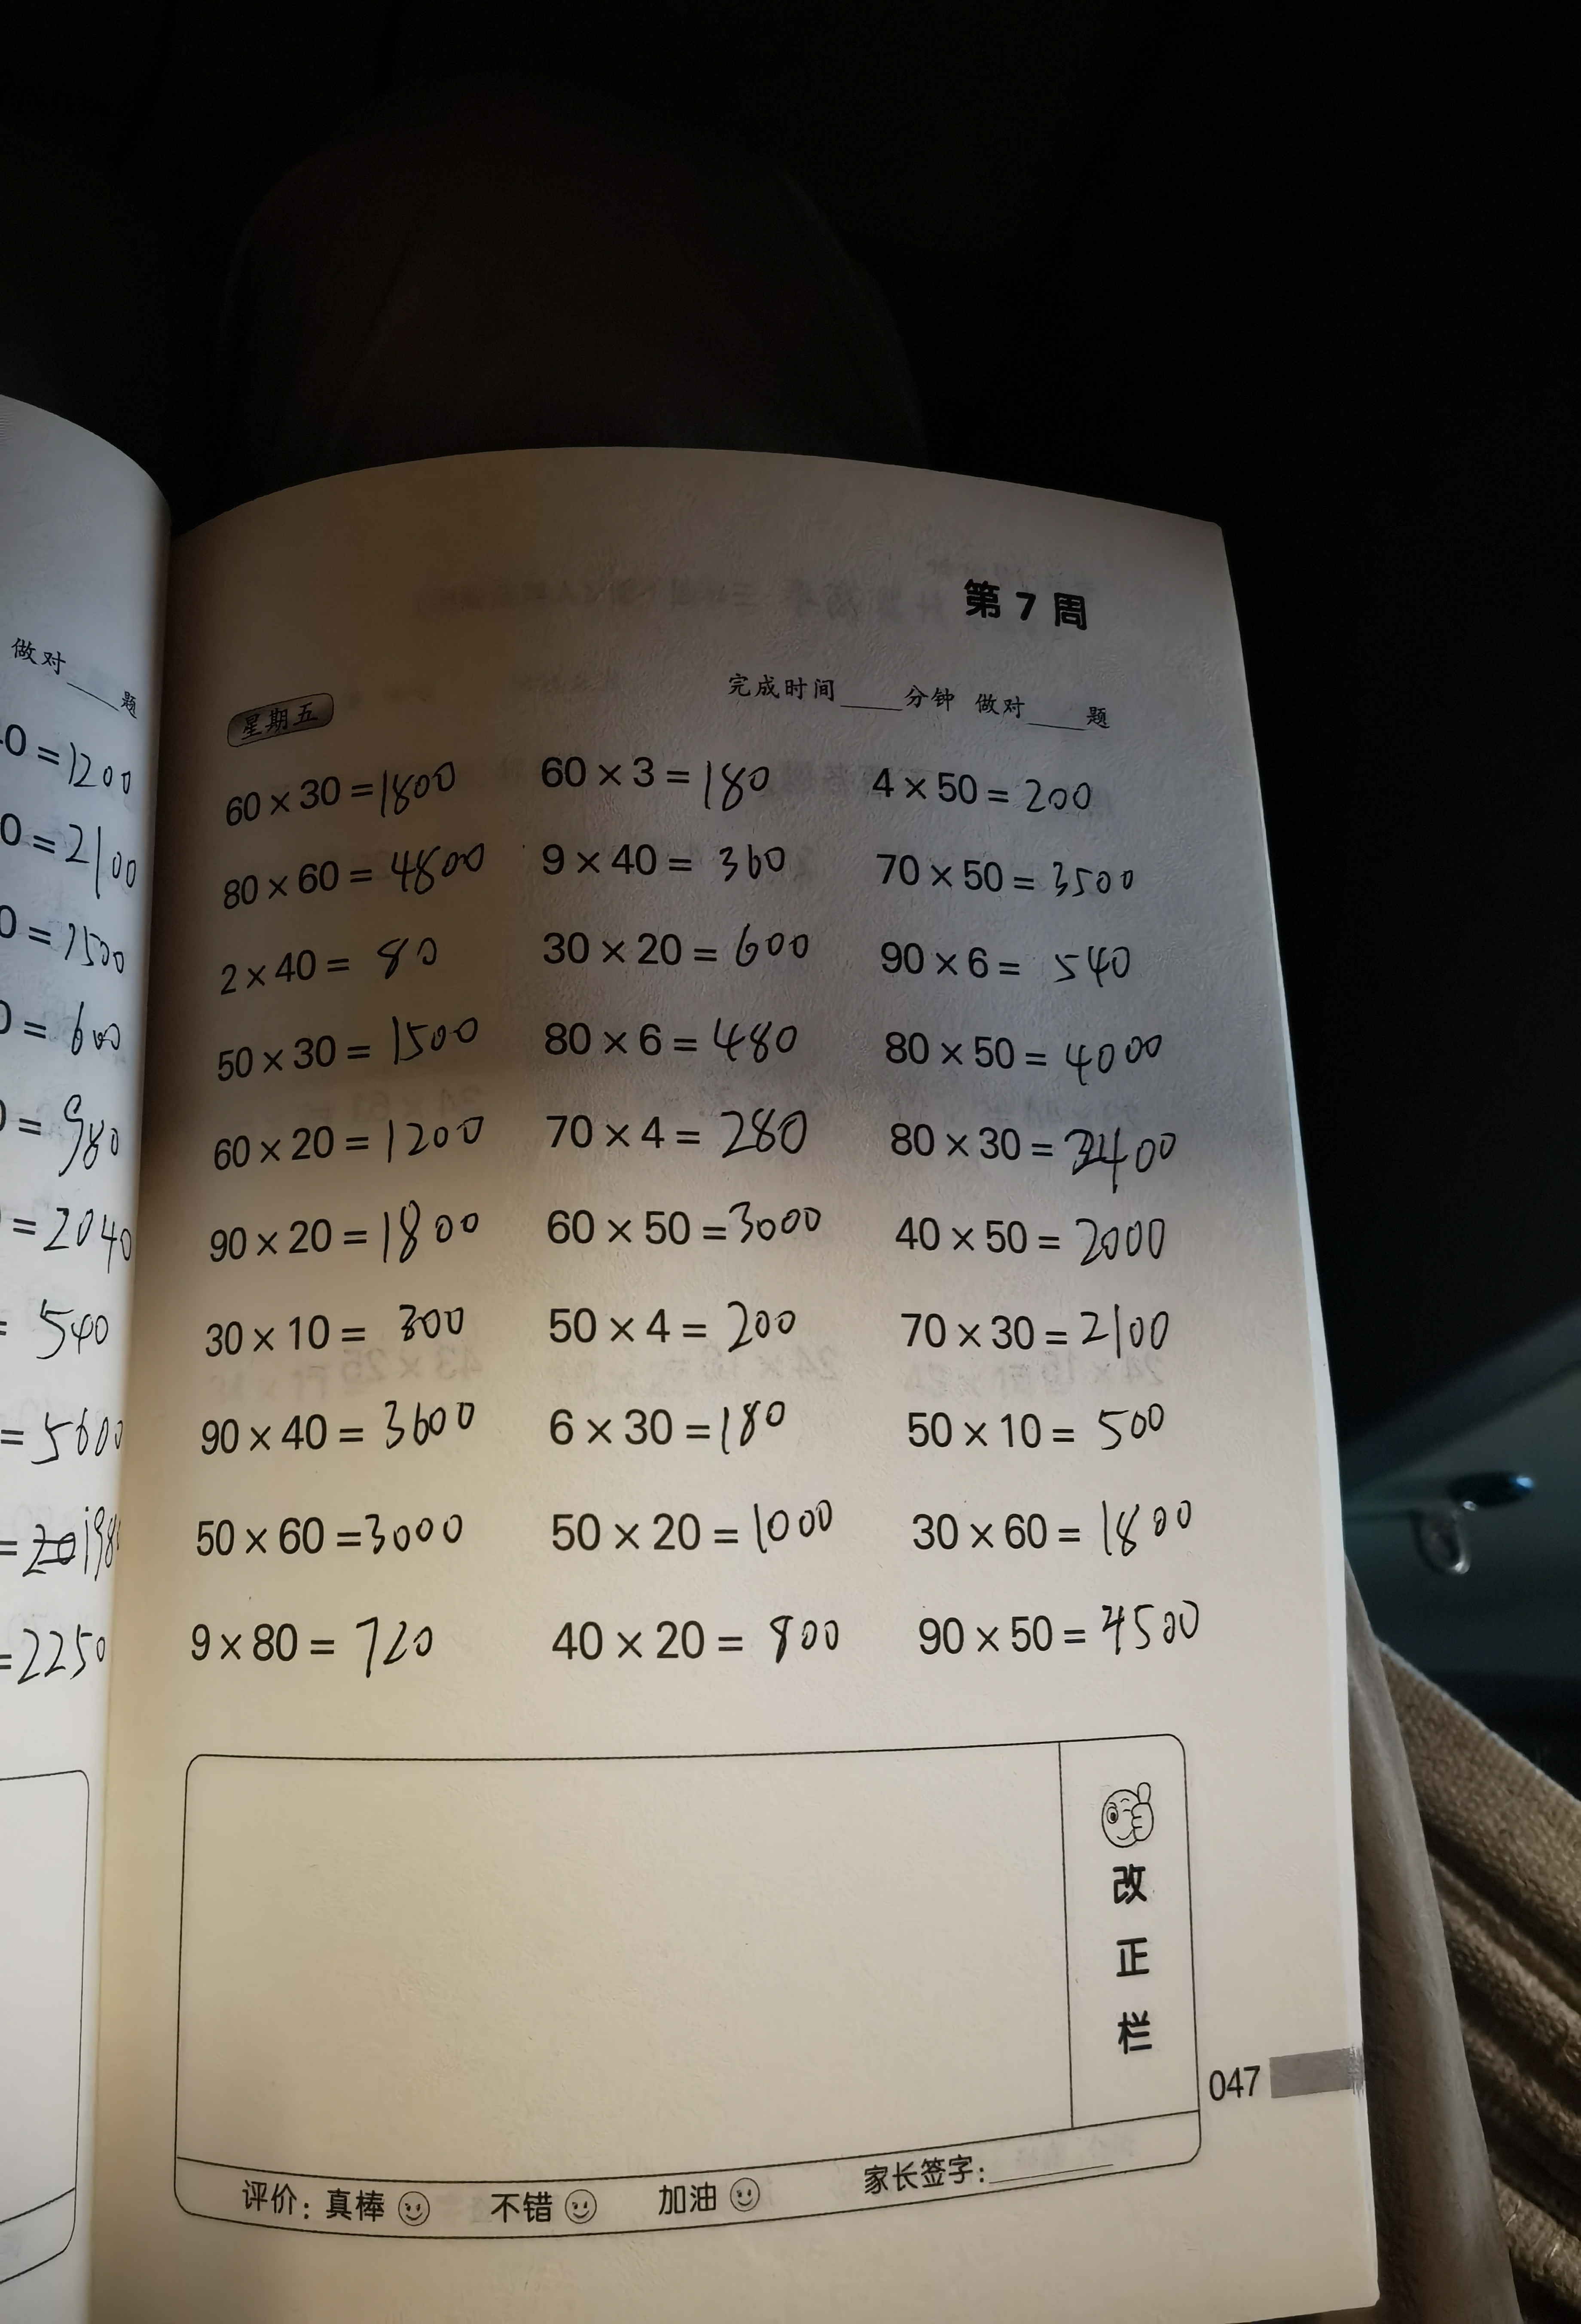equation: (886, 1481, 1251, 1572), (879, 1202, 1233, 1292), (896, 1285, 1207, 1382), (162, 1602, 489, 1692), (510, 1482, 850, 1565), (870, 1108, 1212, 1189), (893, 1593, 1225, 1671), (868, 752, 1133, 842), (531, 729, 780, 822), (859, 1016, 1200, 1083), (171, 1498, 487, 1565), (487, 1394, 828, 1454), (889, 1394, 1200, 1458), (187, 1113, 503, 1175), (540, 1609, 836, 1675), (542, 1295, 843, 1359), (859, 849, 1154, 912), (173, 1203, 491, 1262), (542, 1188, 845, 1248), (187, 1299, 499, 1357), (536, 1108, 840, 1166), (201, 753, 478, 817), (526, 919, 819, 978), (528, 1006, 820, 1064), (875, 928, 1191, 981), (205, 1022, 505, 1076), (542, 828, 806, 889), (198, 1394, 478, 1451), (206, 847, 492, 900), (198, 942, 466, 983)
